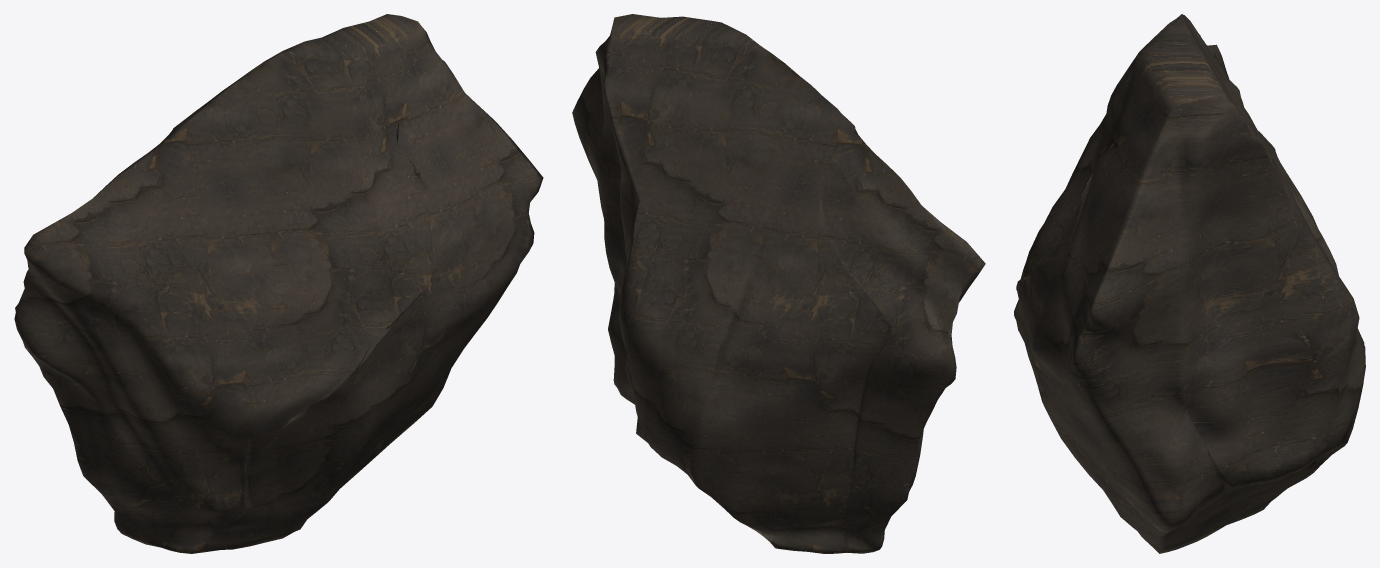
The model's file is cliff_buttress_b_lod0.gltf.
3 views of the same model, side by side, from view 1: azimuth 30°, elevation 25°; view 2: azimuth 150°, elevation 25°; view 3: azimuth 270°, elevation 25° (orthographic). The views are drawn at different scales.
Parts seen in each view (by area): view 1: cliff_buttress_b_LOD0; view 2: cliff_buttress_b_LOD0; view 3: cliff_buttress_b_LOD0.
Part boxes in pixels (x1,y1,x2,y2): cliff_buttress_b_LOD0: [14, 14, 543, 553]; cliff_buttress_b_LOD0: [572, 14, 985, 553]; cliff_buttress_b_LOD0: [1014, 14, 1365, 553].
Bounding box in the file's own units: 20.41 × 20 × 11.84.
Materials: 1 (1 with a texture image).
